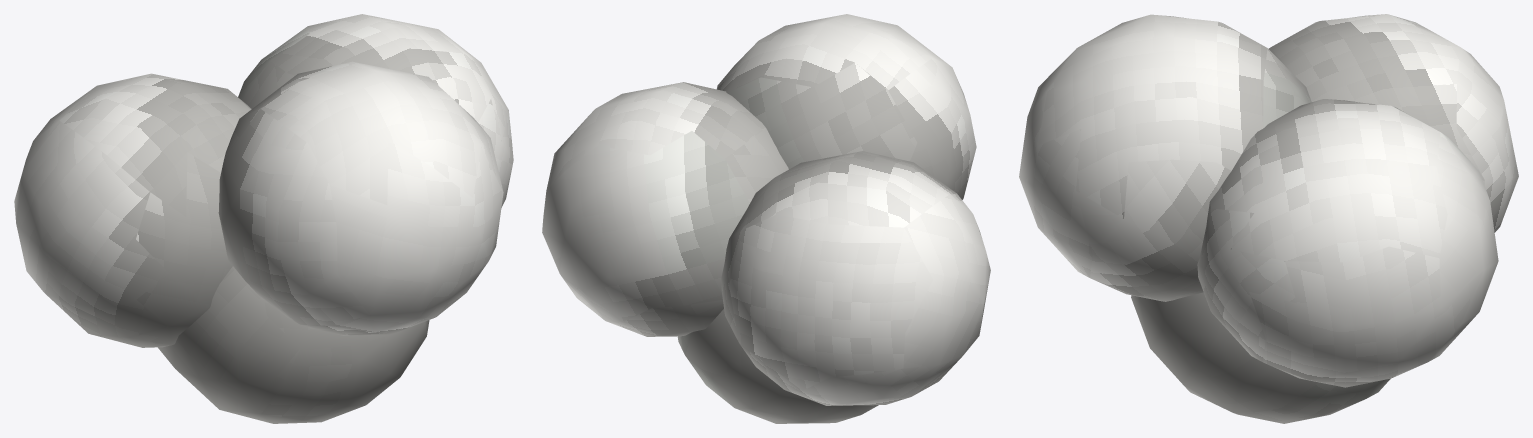
Rendered from pellet_nikuman.glb.
The picture shows the model from 3 angles, left to right: view 1: azimuth 30°, elevation 25°; view 2: azimuth 150°, elevation 25°; view 3: azimuth 270°, elevation 25°; orthographic projection. The views are drawn at different scales.
Visible parts, largest first — view 1: prop_pellet_nikuman_felt; view 2: prop_pellet_nikuman_felt; view 3: prop_pellet_nikuman_felt.
Part boxes in pixels (<box>): prop_pellet_nikuman_felt: <box>14,14,513,423</box>; prop_pellet_nikuman_felt: <box>542,14,990,423</box>; prop_pellet_nikuman_felt: <box>1019,14,1518,423</box>.
Size of the model in its own units: 0.0811 by 0.0631 by 0.0737.
1 material, 1 textured.
